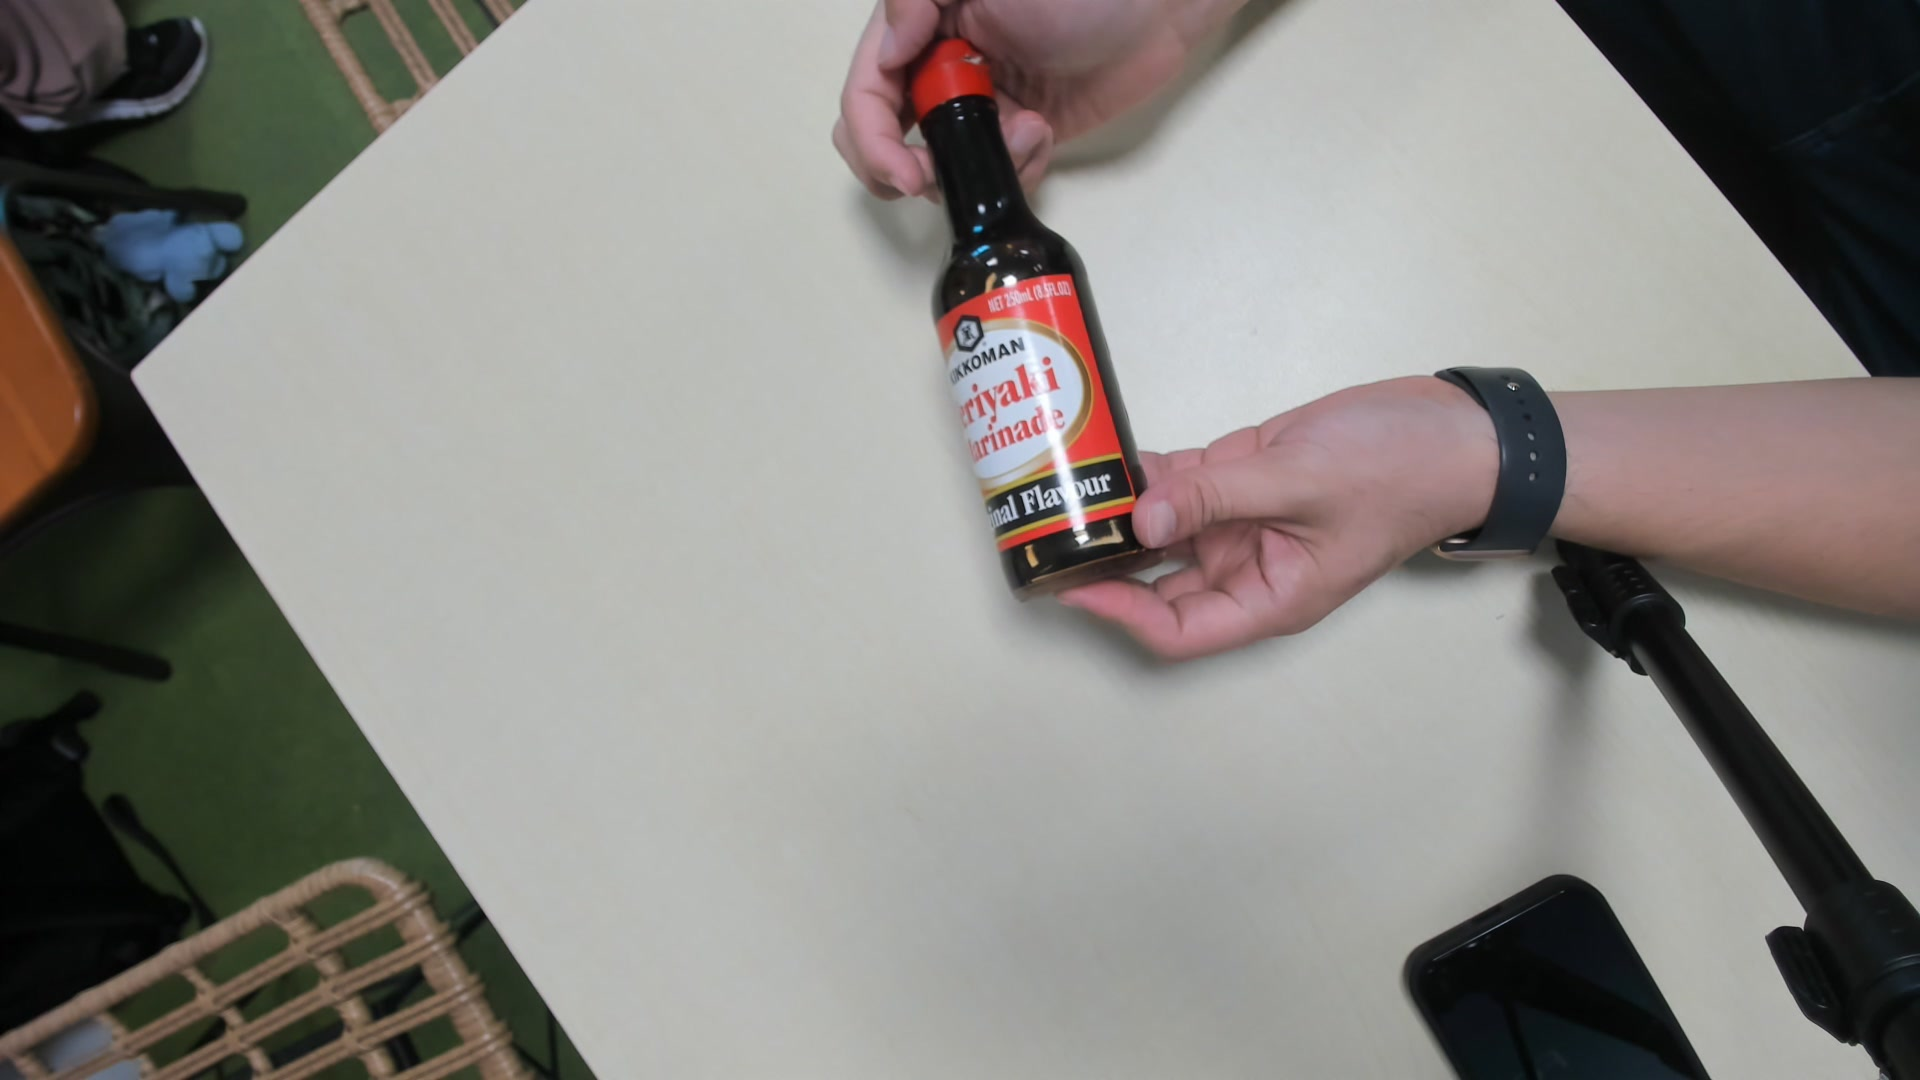OtherSauceDressing_200-299g_NonHalal_NonHealthy: (911, 33, 1154, 589)
